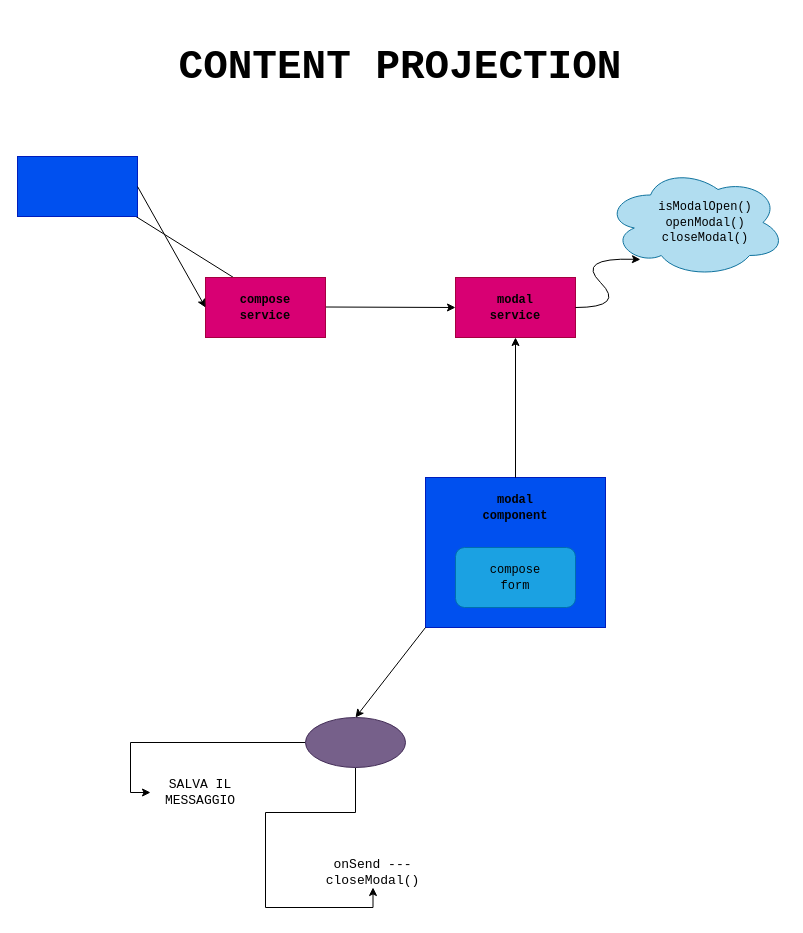
Some shapes in this 803 by 933 pixel diagram are drawn without their labels. Here are the shapes that lost their labels. From the top down, the centre of each, then its label:
At (77,186): "compose button component".
At (355,742): "SEND".
